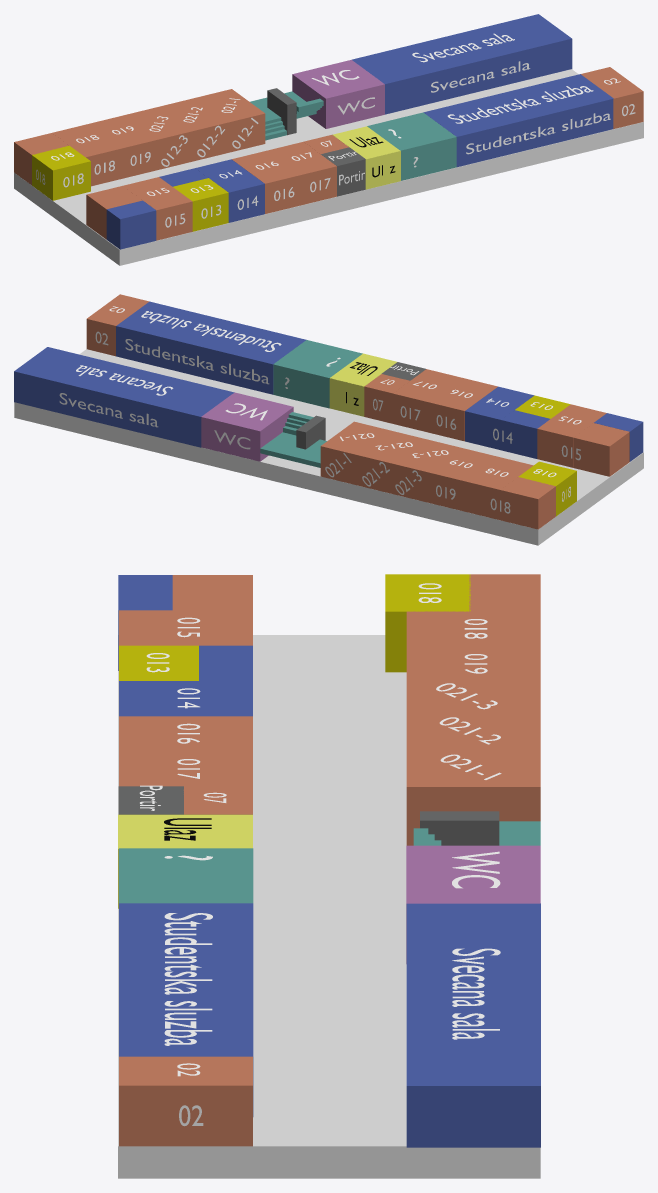
The model's file is NastavniBlokUcionice1.glb.
The picture shows the model from 3 angles, top to bottom: view 1: azimuth 30°, elevation 25°; view 2: azimuth 150°, elevation 25°; view 3: azimuth 270°, elevation 25°; orthographic projection. The views are drawn at different scales.
Visible parts, largest first — view 1: Cube, Svecana, SS, WC, ?, 018A, 014, 015, 021.1, 016, 019, 021.002 (+18 smaller); view 2: Cube, Svecana, SS, WC, ?, 015.SmallPart, 018.SmallPart, 015, 018, 019, 014, 017 (+21 smaller); view 3: Cube, Svecana, SS, 002, 021.1, WC, ?, 019, 018, 015, 021.003, 017 (+16 smaller).
Part boxes in pixels (bbox=[...]): Cube: bbox=[14, 69, 643, 265]; Svecana: bbox=[352, 14, 572, 114]; SS: bbox=[423, 74, 613, 167]; WC: bbox=[292, 60, 384, 128]; ?: bbox=[367, 112, 456, 180]; 018A: bbox=[32, 145, 90, 200]; 014: bbox=[195, 159, 264, 222]; 015: bbox=[123, 177, 192, 240]; 021.1: bbox=[196, 89, 265, 152]; 016: bbox=[232, 150, 301, 213]; 019: bbox=[88, 115, 157, 178]; 021.002: bbox=[160, 97, 229, 161]; Cube: bbox=[14, 349, 643, 545]; Svecana: bbox=[14, 347, 234, 447]; SS: bbox=[116, 301, 306, 394]; WC: bbox=[201, 392, 293, 461]; ?: bbox=[273, 340, 362, 408]; 015.SmallPart: bbox=[573, 423, 629, 476]; 018.SmallPart: bbox=[500, 477, 555, 529]; 015: bbox=[537, 404, 606, 467]; 018: bbox=[464, 456, 533, 519]; 019: bbox=[428, 448, 497, 511]; 014: bbox=[465, 386, 534, 450]; 017: bbox=[392, 369, 461, 432]; Cube: bbox=[118, 635, 540, 1178]; Svecana: bbox=[406, 903, 540, 1147]; SS: bbox=[119, 903, 253, 1116]; 002: bbox=[119, 1056, 252, 1146]; 021.1: bbox=[406, 751, 540, 845]; WC: bbox=[406, 845, 540, 963]; ?: bbox=[119, 848, 253, 903]; 019: bbox=[406, 646, 540, 681]; 018: bbox=[406, 611, 540, 646]; 015: bbox=[119, 610, 252, 645]; 021.003: bbox=[406, 681, 540, 716]; 017: bbox=[119, 751, 252, 786].
Bounding box in the file's own units: 36.77 × 3.19 × 12.93.
